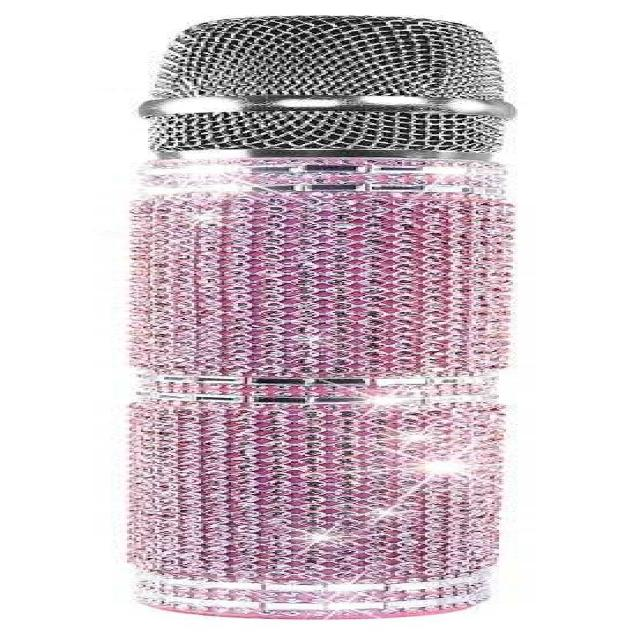microphone: (129, 13, 528, 616), (138, 15, 522, 162)
